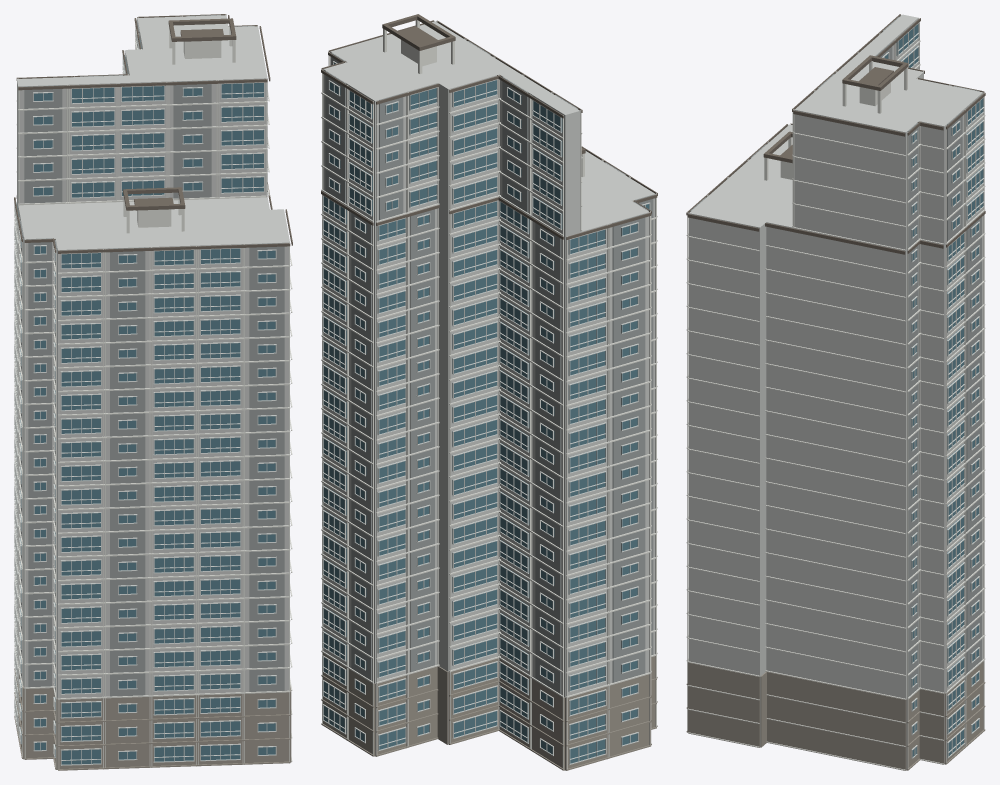
Rendered from bespoke-banpo-xi-106.glb.
The picture shows the model from 3 angles, left to right: view 1: azimuth 30°, elevation 25°; view 2: azimuth 150°, elevation 25°; view 3: azimuth 270°, elevation 25°; orthographic projection. The views are drawn at different scales.
Visible parts, largest first — view 1: BX106_editable_BX106_pale_silver_limestone, BX106_editable_BX106_blue_grey_broad_glazing, BX106_editable_BX106_grey_service_core, BX106_editable_BX106_white_window_frames, BX106_editable_BX106_ivory_course_bands, BX106_editable_BX106_warm_ground_stone, BX106_editable_BX106_dark_coping; view 2: BX106_editable_BX106_blue_grey_broad_glazing, BX106_editable_BX106_pale_silver_limestone, BX106_editable_BX106_white_window_frames, BX106_editable_BX106_grey_service_core, BX106_editable_BX106_ivory_course_bands, BX106_editable_BX106_warm_ground_stone, BX106_editable_BX106_dark_coping; view 3: BX106_editable_BX106_pale_silver_limestone, BX106_editable_BX106_ivory_course_bands, BX106_editable_BX106_warm_ground_stone, BX106_editable_BX106_grey_service_core, BX106_editable_BX106_white_window_frames, BX106_editable_BX106_blue_grey_broad_glazing, BX106_editable_BX106_dark_coping.
Part boxes in pixels (x1,y1,x2,y2): BX106_editable_BX106_pale_silver_limestone: [17, 15, 289, 769]; BX106_editable_BX106_blue_grey_broad_glazing: [16, 38, 275, 764]; BX106_editable_BX106_grey_service_core: [20, 15, 284, 697]; BX106_editable_BX106_white_window_frames: [14, 29, 276, 765]; BX106_editable_BX106_ivory_course_bands: [14, 14, 292, 769]; BX106_editable_BX106_warm_ground_stone: [14, 668, 291, 770]; BX106_editable_BX106_dark_coping: [14, 14, 292, 253]; BX106_editable_BX106_blue_grey_broad_glazing: [323, 63, 649, 763]; BX106_editable_BX106_pale_silver_limestone: [323, 21, 655, 769]; BX106_editable_BX106_white_window_frames: [322, 61, 650, 764]; BX106_editable_BX106_grey_service_core: [325, 41, 653, 694]; BX106_editable_BX106_ivory_course_bands: [321, 20, 657, 770]; BX106_editable_BX106_warm_ground_stone: [321, 653, 657, 770]; BX106_editable_BX106_dark_coping: [321, 14, 657, 239]; BX106_editable_BX106_pale_silver_limestone: [689, 14, 982, 769]; BX106_editable_BX106_ivory_course_bands: [686, 14, 985, 770]; BX106_editable_BX106_warm_ground_stone: [686, 661, 985, 770]; BX106_editable_BX106_grey_service_core: [690, 16, 981, 696]; BX106_editable_BX106_white_window_frames: [882, 22, 984, 758]; BX106_editable_BX106_blue_grey_broad_glazing: [884, 24, 983, 757]; BX106_editable_BX106_dark_coping: [686, 14, 985, 254].
Bounding box in the file's own units: 33 × 75.7 × 30.9.
